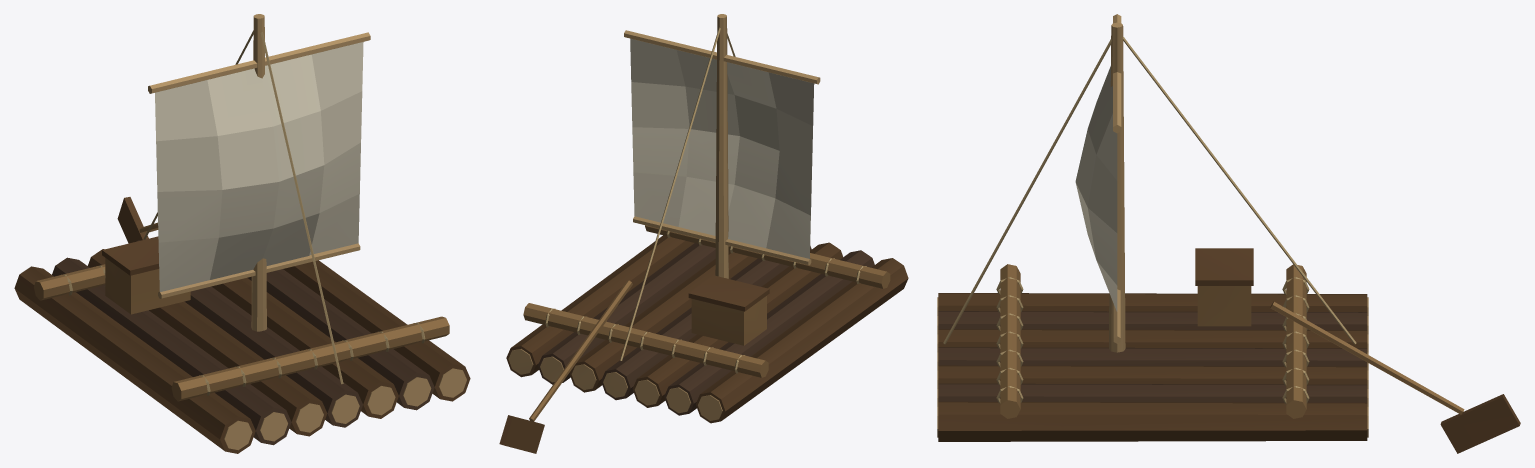
File: Raft.fbx
The picture shows the model from 3 angles, left to right: view 1: azimuth 30°, elevation 25°; view 2: azimuth 150°, elevation 25°; view 3: azimuth 270°, elevation 25°; orthographic projection. The views are drawn at different scales.
Visible parts, largest first — view 1: Raft; view 2: Raft; view 3: Raft.
Part boxes in pixels (x1=…): Raft: x1=14, y1=14, x2=470, y2=453; Raft: x1=499, y1=14, x2=908, y2=453; Raft: x1=937, y1=14, x2=1520, y2=453.
Size of the model in its own units: 2.7 by 3.73 by 4.9.
